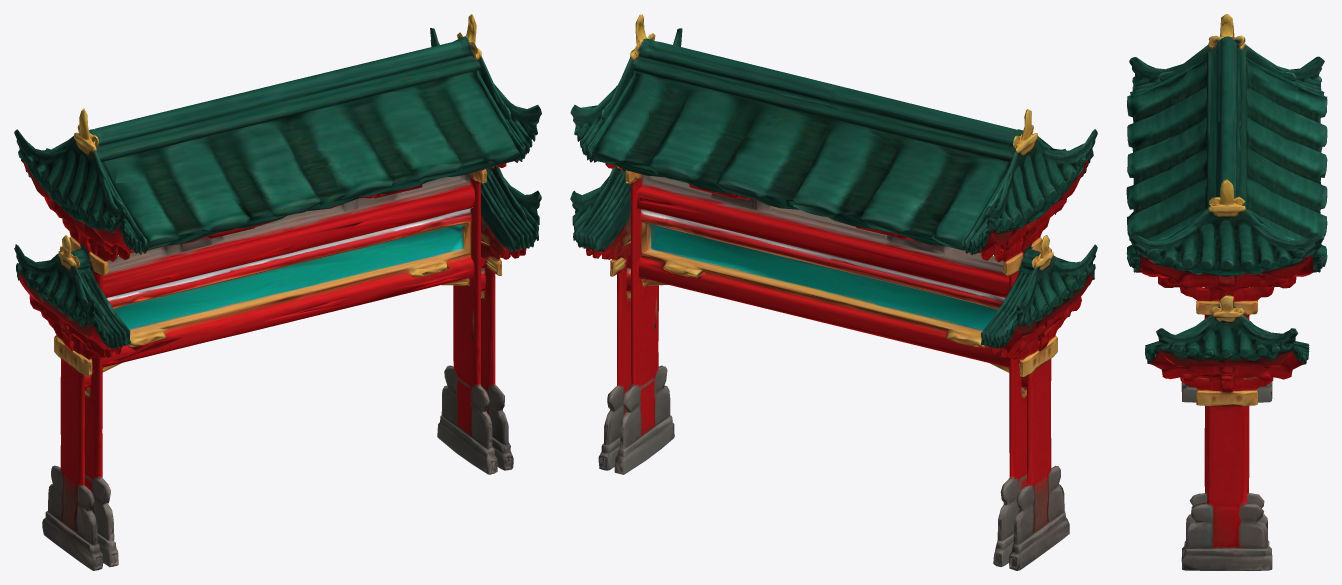
The model's file is start-gate.glb.
The picture shows the model from 3 angles, left to right: view 1: azimuth 30°, elevation 25°; view 2: azimuth 150°, elevation 25°; view 3: azimuth 270°, elevation 25°; orthographic projection. The views are drawn at different scales.
Size of the model in its own units: 0.98 by 0.9192 by 0.4353.
Materials: 1 (1 with a texture image).
